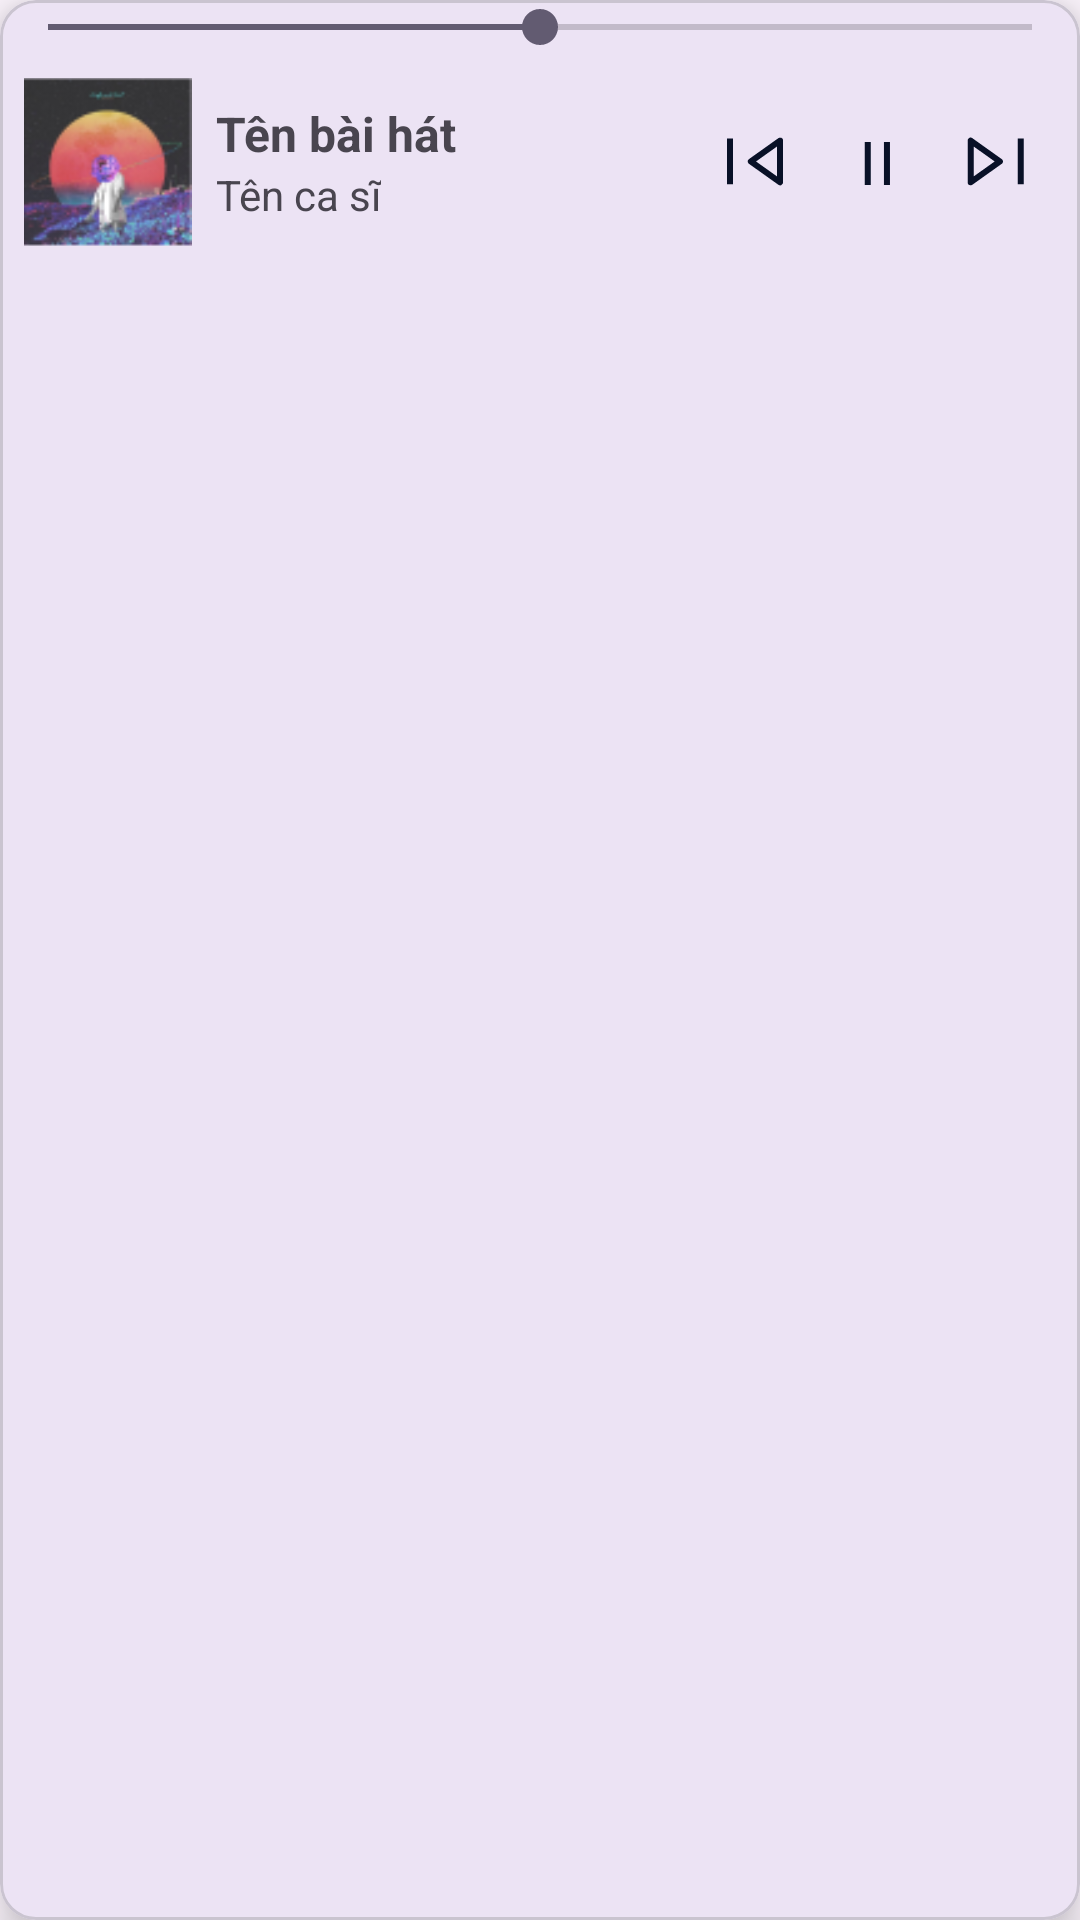

Icons on this 1080×1920 Android screen, each with its box as (x1, y1, x2, y2):
next left: (727, 137, 783, 186)
next right: (967, 137, 1024, 186)
pause: (864, 142, 890, 185)
